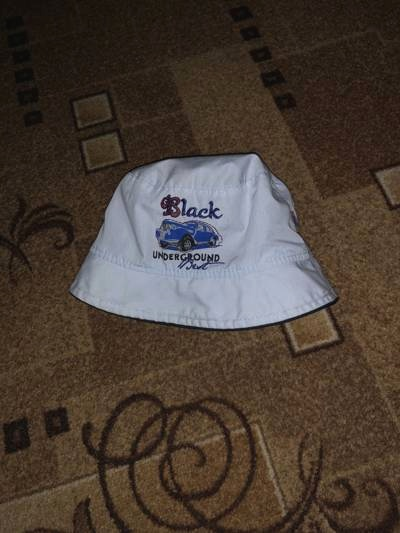Hat: (69, 103, 349, 350)
